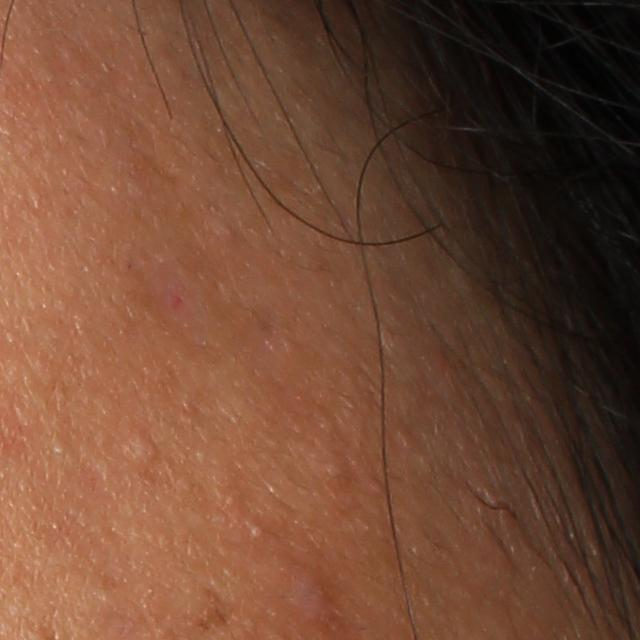comedo: (123, 426, 166, 467), (210, 218, 241, 247), (249, 520, 266, 542), (50, 436, 66, 455)
papule: (288, 570, 335, 619)
